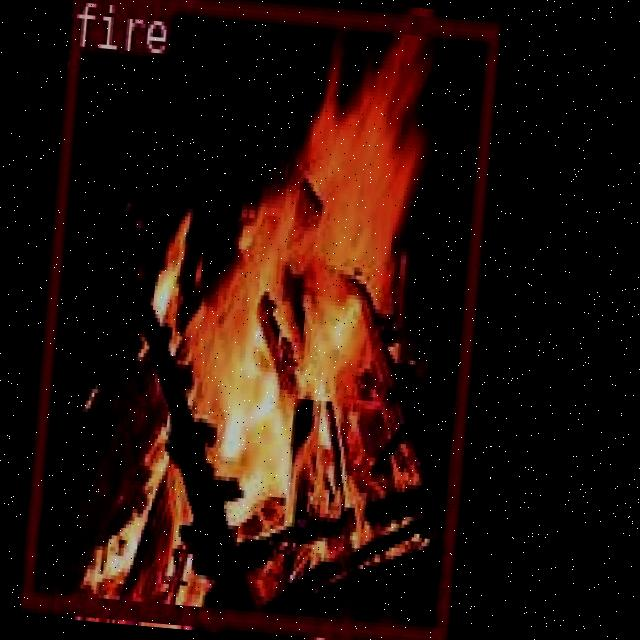fire: (19, 0, 498, 640)
